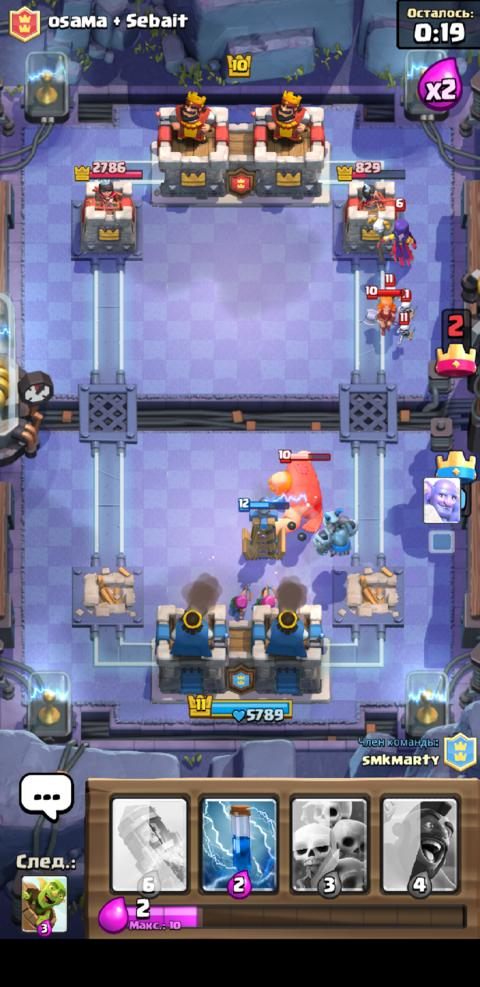ally_archer: (226, 581, 252, 620), (250, 582, 280, 609)
ally_mega_minion: (312, 507, 358, 559)
ally_tesla: (236, 496, 291, 562)
enemy_giant: (265, 447, 331, 533)
enemy_skeleton: (394, 311, 415, 345), (395, 287, 412, 317), (383, 272, 395, 300)
enemy_valkyrie: (358, 285, 406, 336)
enemy_witch: (366, 197, 417, 269)
